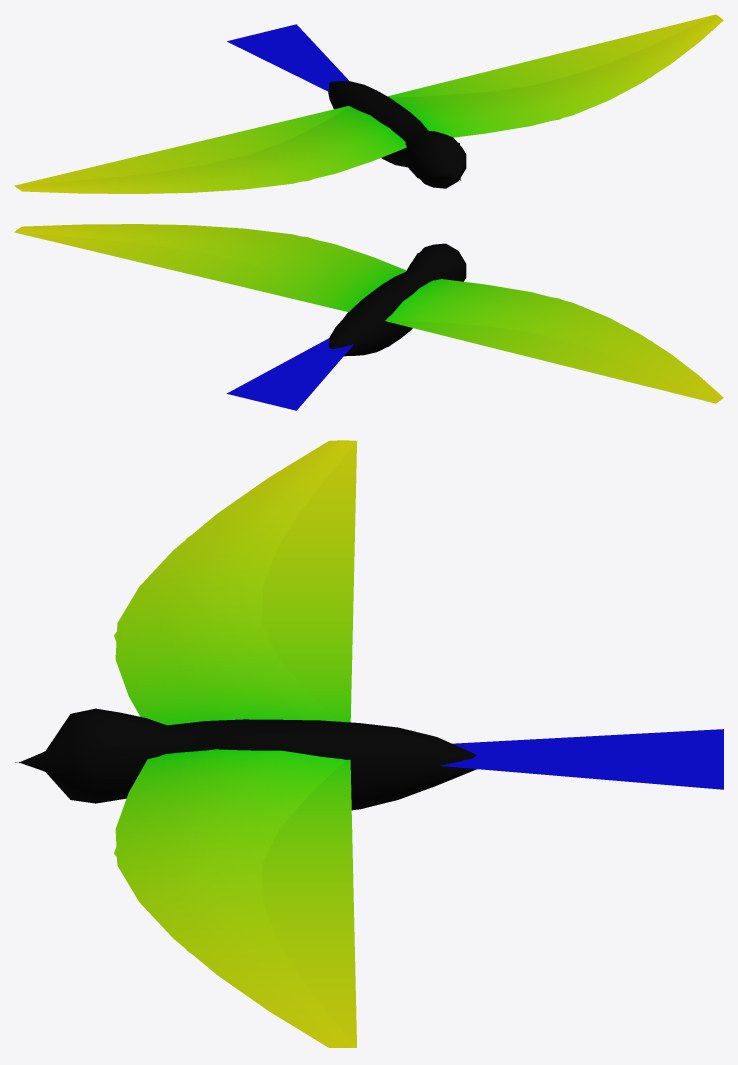
File: swallow.glb
3 views of the same model, one above another, from view 1: azimuth 30°, elevation 25°; view 2: azimuth 150°, elevation 25°; view 3: azimuth 270°, elevation 25° (orthographic). The views are drawn at different scales.
Parts seen in each view (by area): view 1: fly0, fly2, fly1; view 2: fly0, fly2, fly1; view 3: fly0, fly2, fly1.
Part boxes in pixels (x1,y1,x2,y2): fly0: (14, 14, 723, 193); fly2: (15, 14, 715, 185); fly1: (15, 20, 703, 189); fly0: (14, 224, 723, 403); fly2: (14, 232, 714, 410); fly1: (19, 224, 720, 401); fly0: (20, 440, 476, 1047); fly2: (15, 441, 723, 1047); fly1: (19, 444, 474, 1047).
Size of the model in its own units: 0.36 by 0.027 by 0.1779.
